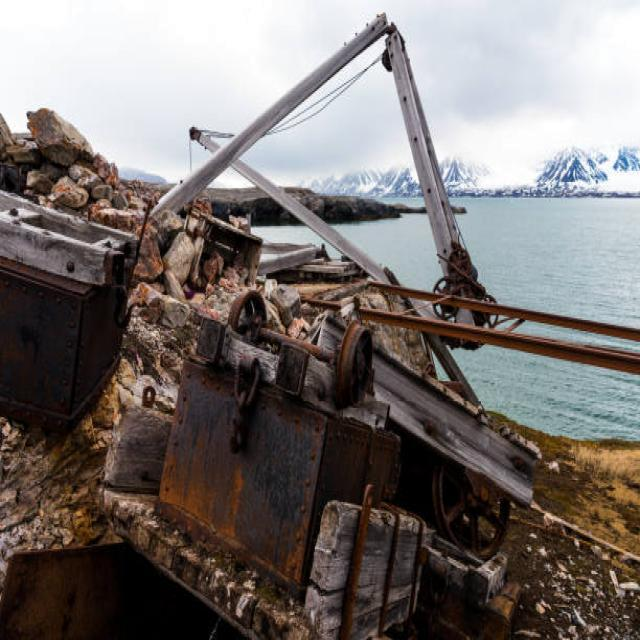Broken Pole: (381, 265, 489, 410)
